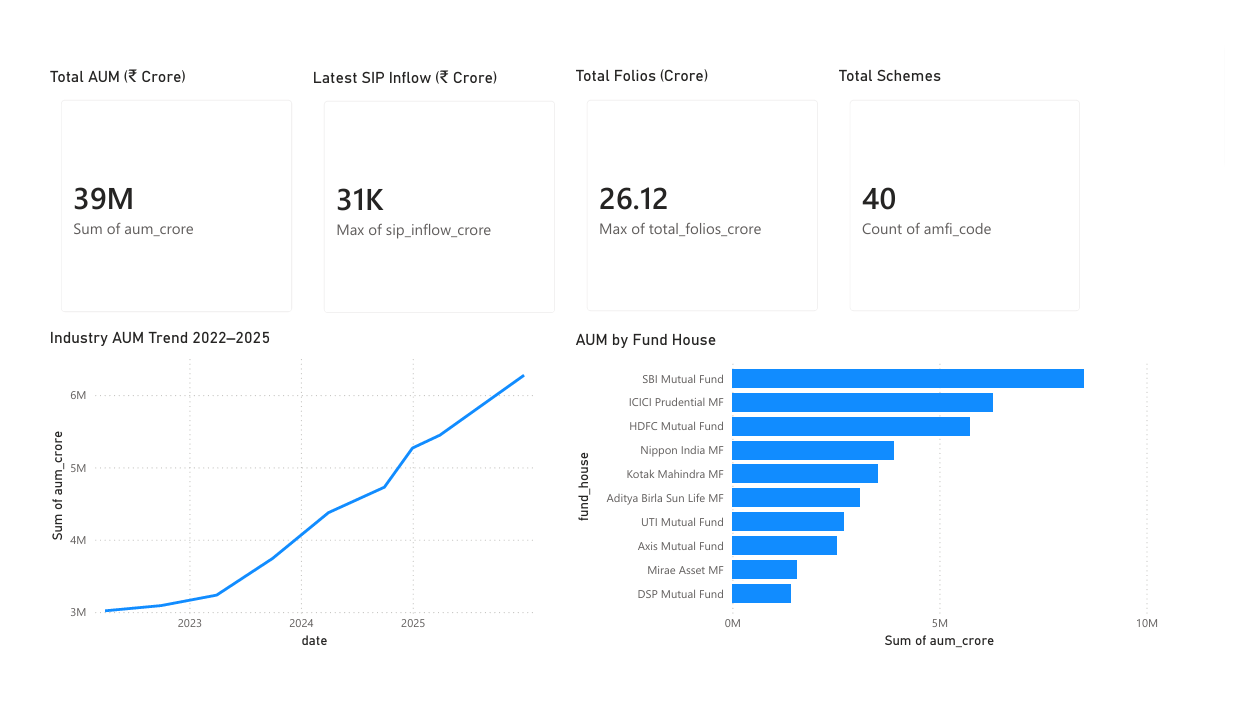

Layout of this report page (visuals, bound fields, positions):
{"tool":"powerbi","page":{"name":"Industry Overview","canvas":[1280,720],"ordinal":0},"visuals":[{"type":"cardVisual","title":"Total AUM (₹ Crore)","fields":{"Data":["Sum(03_aum_by_fund_house.aum_crore)"]},"box":[24.3,57.1,280,280],"z":0},{"type":"cardVisual","title":"Latest SIP Inflow (₹ Crore)","fields":{"Data":["Max(04_monthly_sip_inflows.sip_inflow_crore)"]},"box":[304,58,280,280],"z":1000},{"type":"cardVisual","title":"Total Folios (Crore)","fields":{"Data":["Max(06_industry_folio_count.total_folios_crore)"]},"box":[583.9,56.7,279.7,279.7],"z":2000},{"type":"cardVisual","title":"Total Schemes","fields":{"Data":["CountNonNull(01_fund_master.amfi_code)"]},"box":[864.3,57.1,278.6,278.6],"z":3000},{"type":"lineChart","title":"Industry AUM Trend 2022–2025","fields":{"Y":["Sum(03_aum_by_fund_house.aum_crore)"],"Category":["03_aum_by_fund_house.date"]},"box":[24,336,528,346],"z":4000},{"type":"clusteredBarChart","title":"AUM by Fund House","fields":{"Category":["03_aum_by_fund_house.fund_house"],"Y":["Sum(03_aum_by_fund_house.aum_crore)"]},"box":[584,338,630,344],"z":5000}]}

Visuals, with their boxes in screenshot pixels (x1, y1, x2, y2), scaled from the page's 1280x720 canvas onto the 1240x709 screenshot:
"Total AUM (₹ Crore)" cardVisual: (left=24, top=56, right=295, bottom=332)
"Latest SIP Inflow (₹ Crore)" cardVisual: (left=294, top=57, right=566, bottom=333)
"Total Folios (Crore)" cardVisual: (left=566, top=56, right=837, bottom=331)
"Total Schemes" cardVisual: (left=837, top=56, right=1107, bottom=331)
"Industry AUM Trend 2022–2025" lineChart: (left=23, top=331, right=535, bottom=672)
"AUM by Fund House" clusteredBarChart: (left=566, top=333, right=1176, bottom=672)
